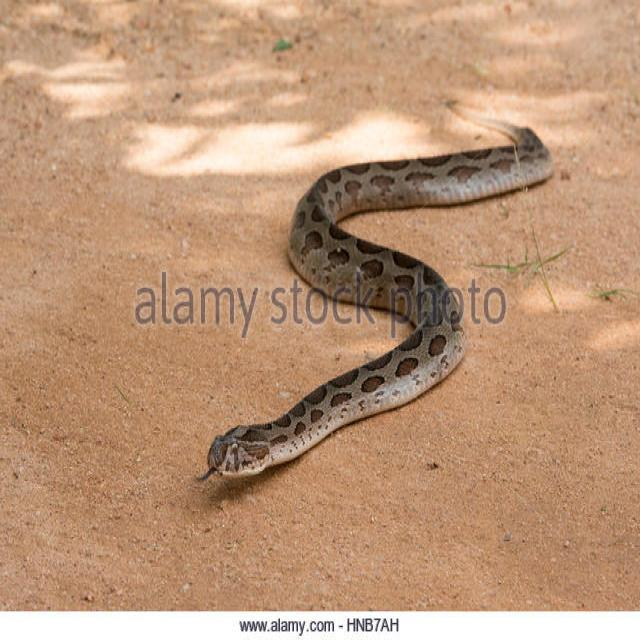Snake: (193, 108, 560, 496)
